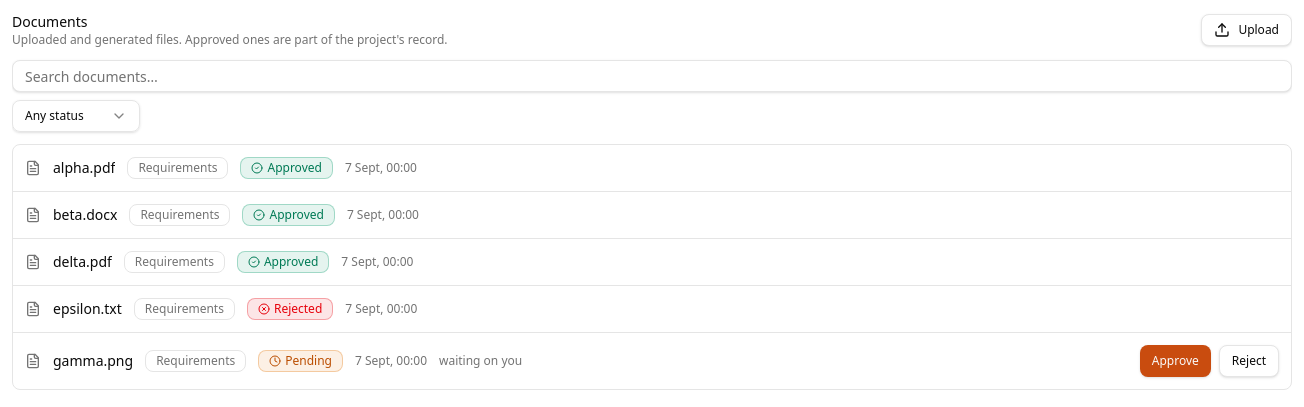
Test: the documents panel › clears the filters from the no-match message
The width and height of the screenshot is (1304, 407).
Type "zzz" into the field labelled "Search documents".
click(652, 76); type("zzz")  # box [12,60,1292,92]
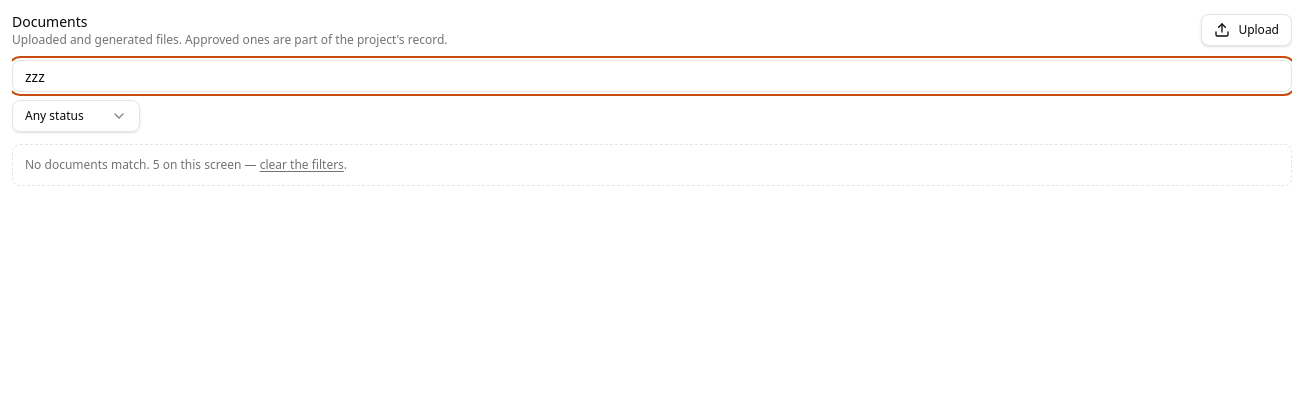
Click the button "clear the filters".
click(302, 165)  # box [260,157,344,173]
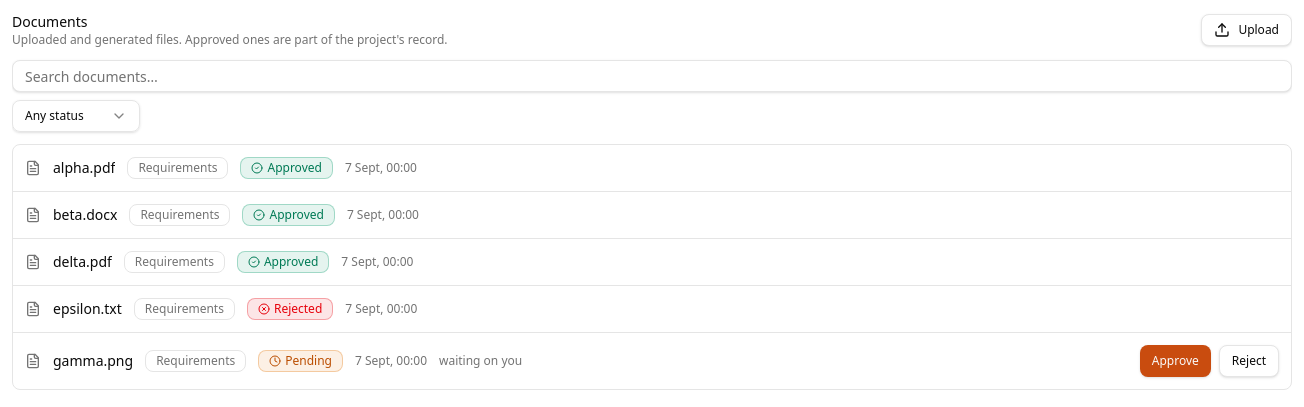
Now the text "alpha.pdf" is shown, box [53,158,115,178]
